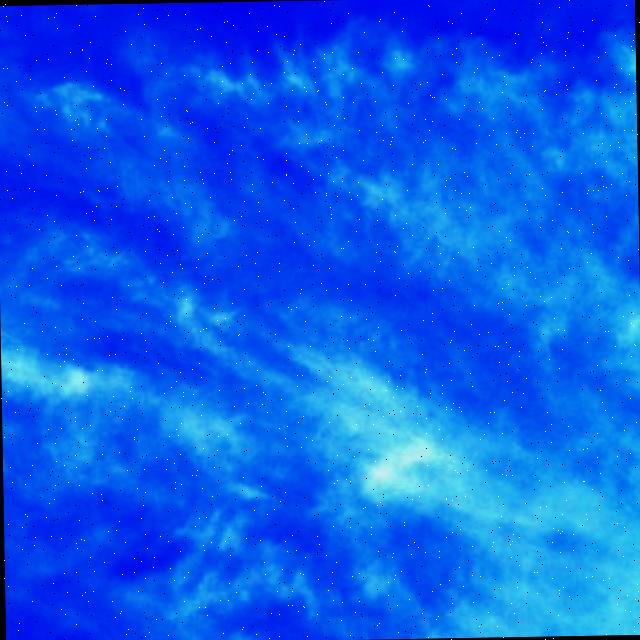Ci: (1, 2, 640, 596)
